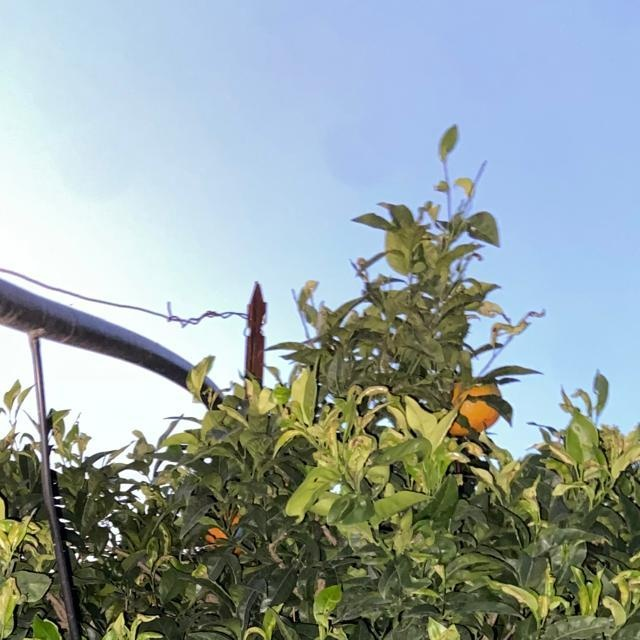orange: (451, 378, 501, 430), (205, 508, 245, 548)
